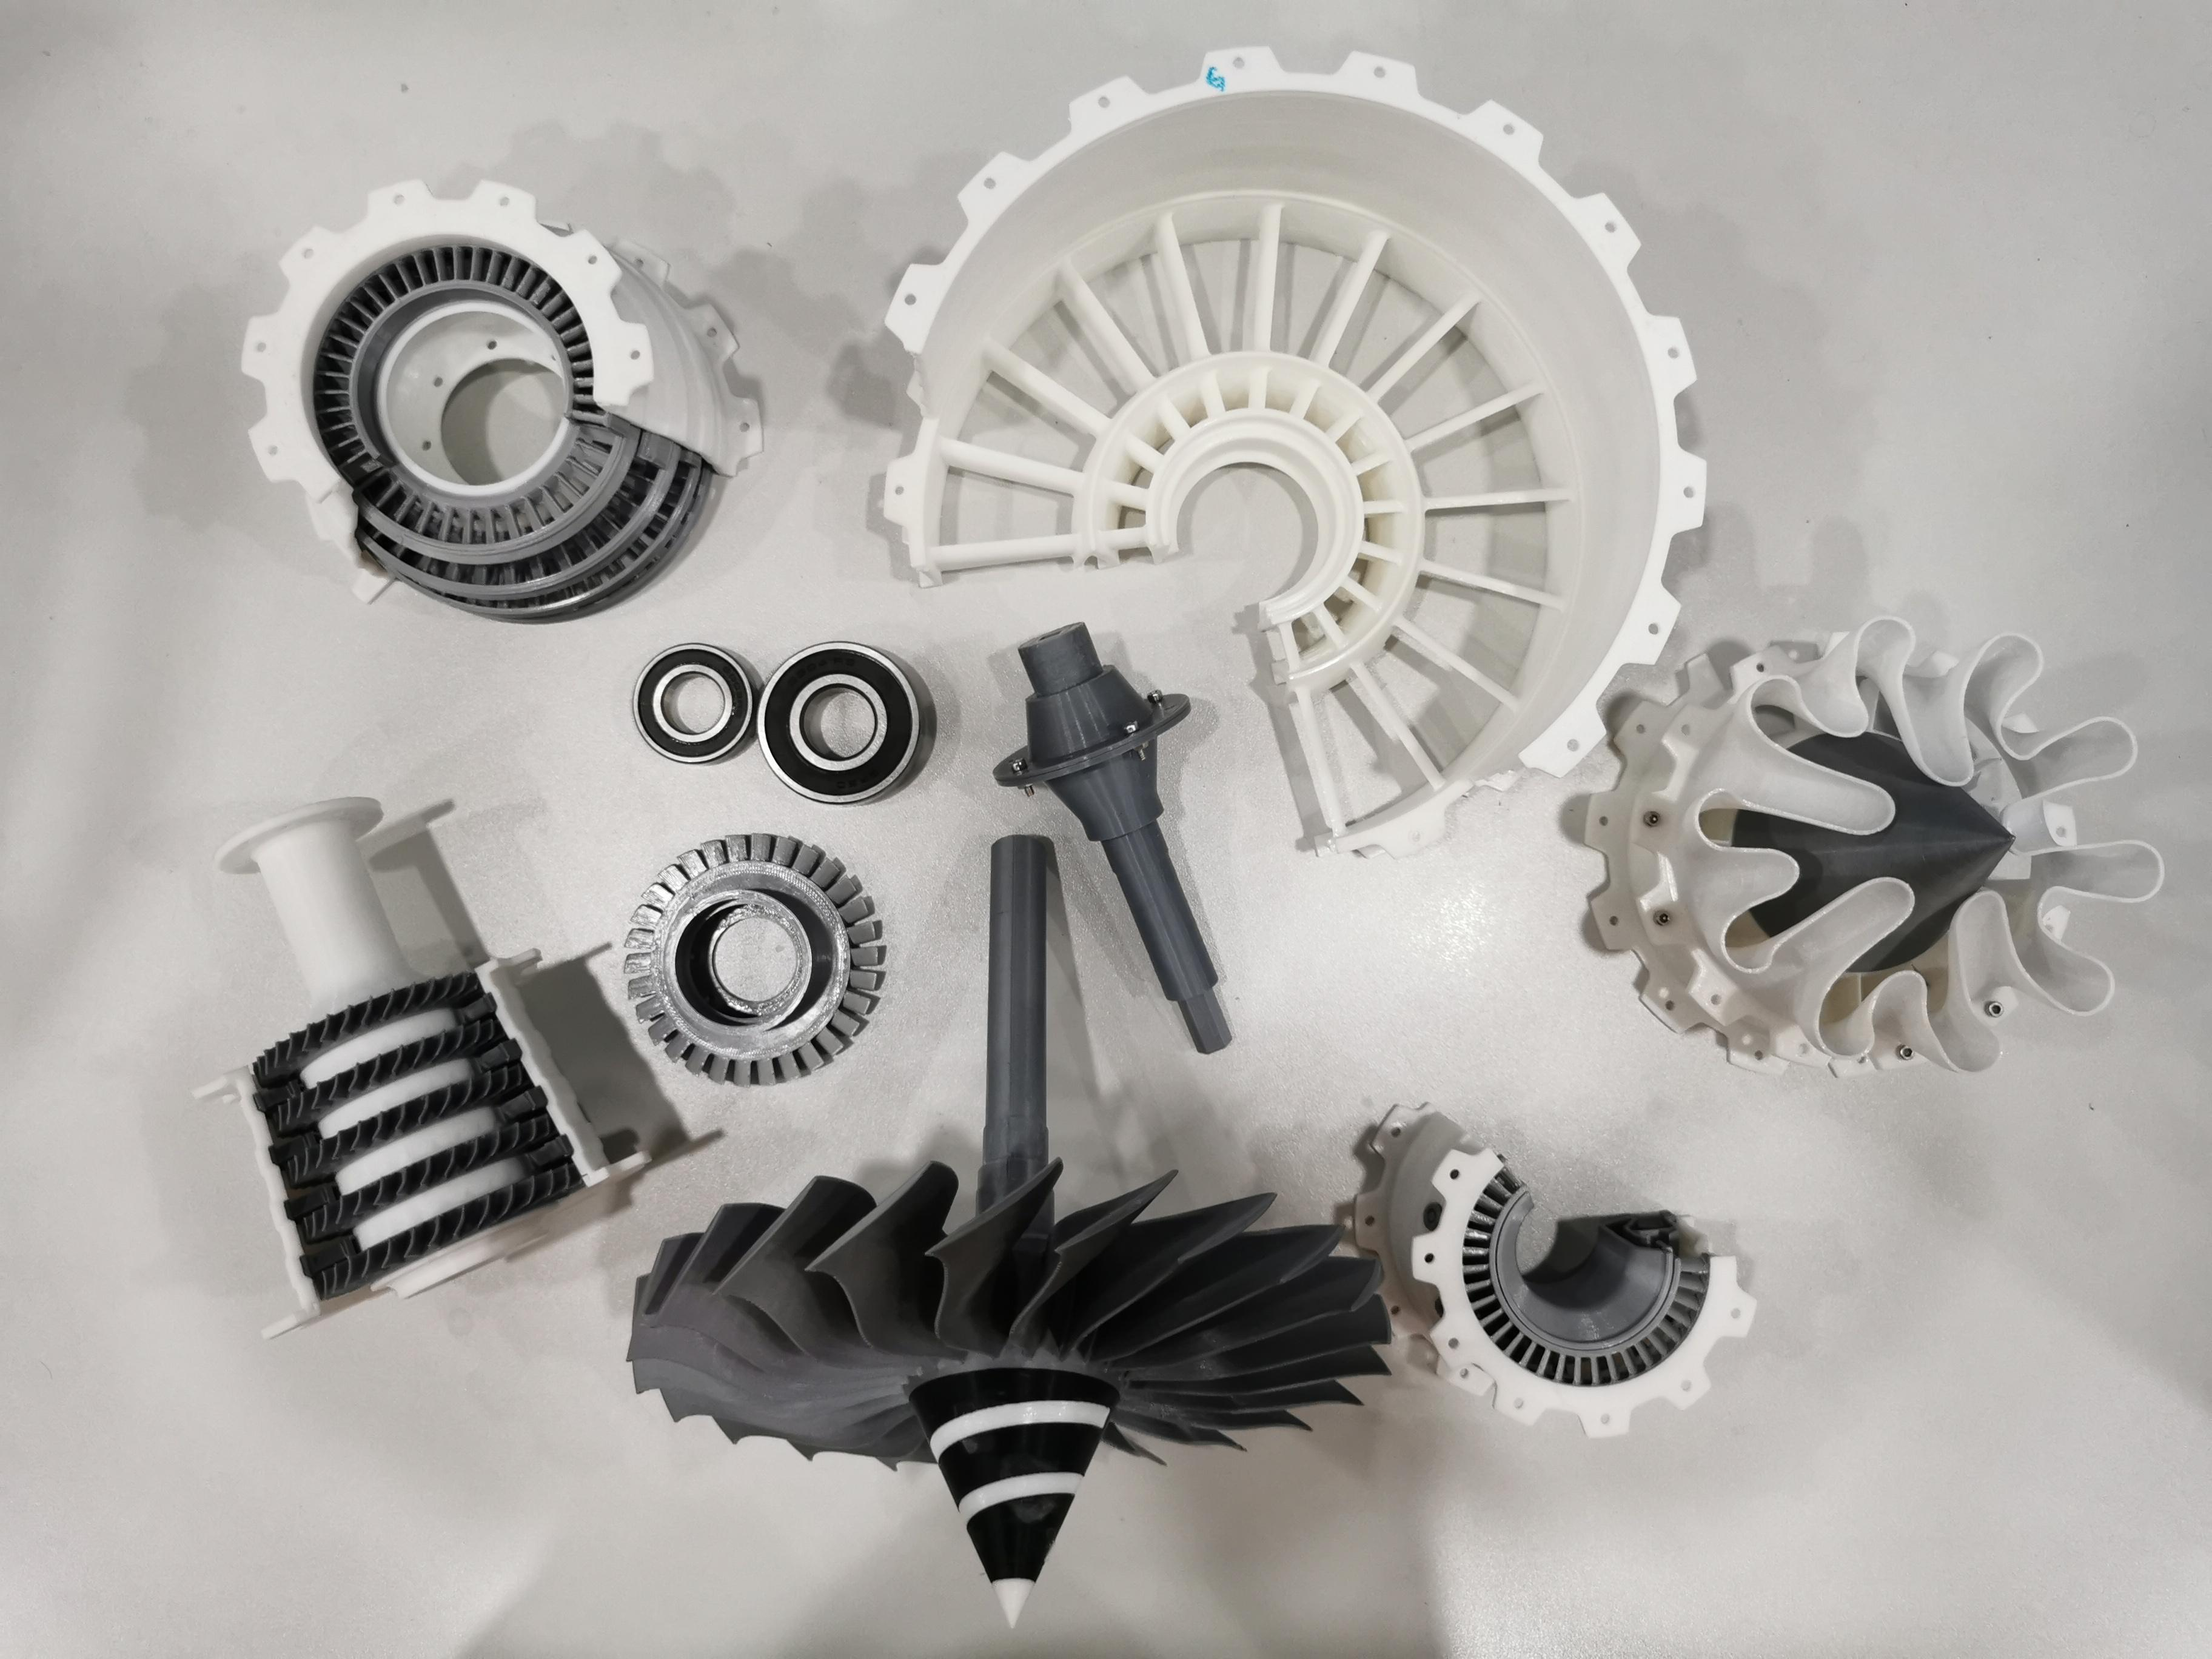Bearing-6003: (615, 631, 754, 784)
Bearing-6204: (752, 629, 937, 814)
Combustion Section: (1348, 1089, 1773, 1448)
Fan Casing and Support: (873, 38, 1716, 868)
Fan and Low Pressure Shaft: (615, 828, 1399, 1635)
HPT Section: (606, 824, 900, 1103)
High Pressure Spool: (169, 786, 658, 1340)
LPT Section: (228, 167, 775, 627)
Low Pressure Spool: (984, 612, 1249, 1070)
Nozzle Section: (1568, 606, 2174, 1091)
